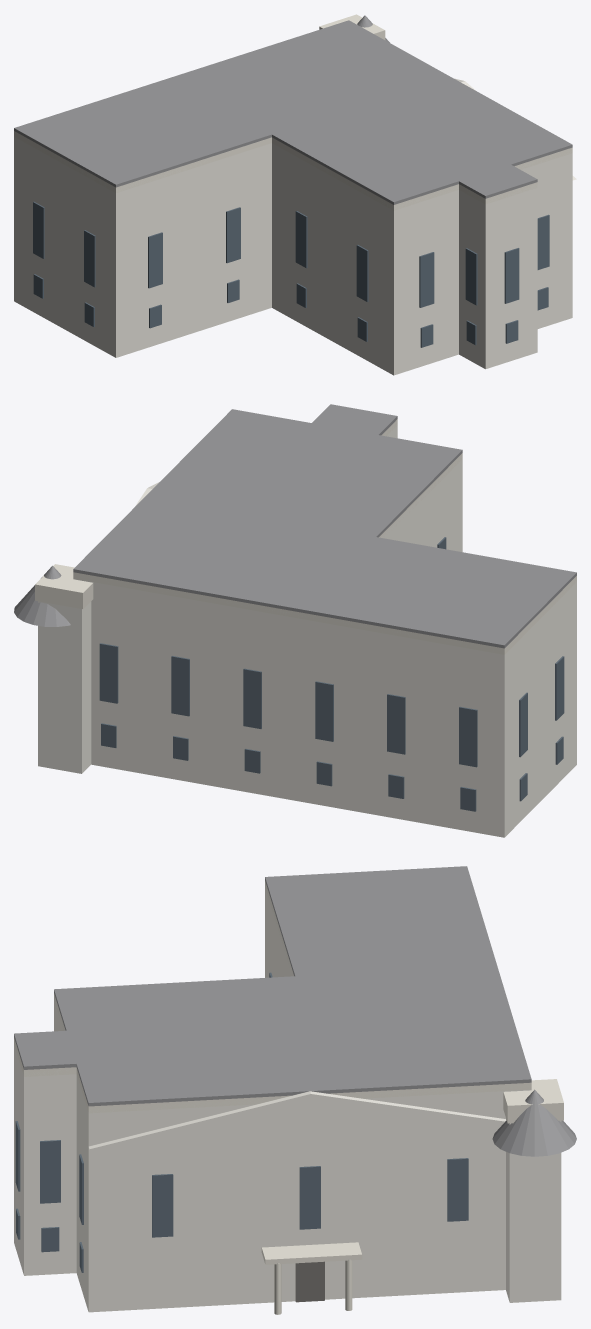
The model's file is d_first_baptist.glb.
The picture shows the model from 3 angles, top to bottom: view 1: azimuth 30°, elevation 25°; view 2: azimuth 150°, elevation 25°; view 3: azimuth 270°, elevation 25°; orthographic projection. The views are drawn at different scales.
Visible parts, largest first — view 1: mass, roofcap, cornice, ch149_8_8_0, ch149_0_0_0, ch149_6_6_0, ch149_6_6_1, ch149_9_9_0, ch149_7_7_0, ch149_2_2_0, ch149_7_7_1, ch149_5_5_1 (+1 smaller); view 2: mass, roofcap, stee149, cornice, belf149, spir149, ch149_4_4_0, ch149_4_4_4, ch149_4_4_1, ch149_4_4_2, ch149_4_4_3, ch149_4_4_5 (+1 smaller); view 3: mass, roofcap, ped149, stee149, cornice, spir149, port149, belf149, fr149_3_1, fr149_3_2, fr149_3_0, ch149_1_1_0 (+1 smaller).
Part boxes in pixels (x1,y1,x2,y2): mass: (14, 137, 572, 375); roofcap: (14, 20, 572, 204); cornice: (14, 131, 572, 210); ch149_8_8_0: (419, 252, 434, 307); ch149_0_0_0: (504, 248, 519, 303); ch149_6_6_0: (148, 232, 162, 288); ch149_6_6_1: (226, 207, 240, 263); ch149_9_9_0: (465, 248, 477, 305); ch149_7_7_0: (295, 211, 307, 268); ch149_2_2_0: (537, 214, 549, 269); ch149_7_7_1: (356, 245, 368, 301); ch149_5_5_1: (84, 230, 95, 287); mass: (73, 421, 576, 837); roofcap: (73, 404, 576, 648); stee149: (38, 601, 91, 773); cornice: (73, 419, 576, 654); belf149: (35, 564, 93, 608); spir149: (14, 565, 70, 626); ch149_4_4_0: (99, 643, 118, 703); ch149_4_4_4: (387, 694, 405, 754); ch149_4_4_1: (171, 656, 189, 716); ch149_4_4_2: (243, 668, 261, 728); ch149_4_4_3: (315, 681, 333, 741); ch149_4_4_5: (459, 706, 477, 767); mass: (14, 884, 531, 1312); roofcap: (14, 866, 531, 1106); ped149: (89, 1091, 506, 1149); stee149: (506, 1119, 561, 1302); cornice: (14, 881, 531, 1113); spir149: (492, 1089, 576, 1156); port149: (261, 1242, 362, 1264); belf149: (503, 1079, 563, 1123); fr149_3_1: (299, 1166, 320, 1229); fr149_3_2: (447, 1158, 468, 1221); fr149_3_0: (152, 1174, 173, 1237); ch149_1_1_0: (40, 1140, 60, 1203).
Bounding box in the file's own units: 35.13 × 14.21 × 34.64.
